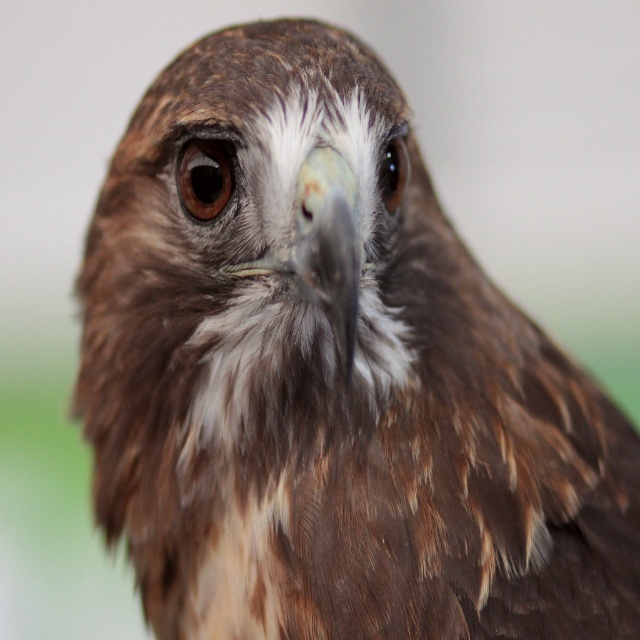Eagle: (68, 22, 640, 640)
